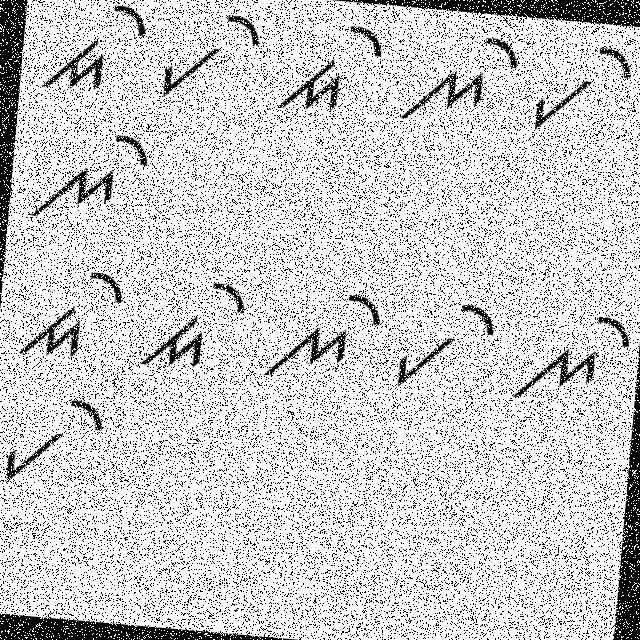day: (270, 9, 390, 123), (134, 266, 250, 380), (13, 259, 128, 372), (39, 0, 157, 105)
nay: (17, 124, 160, 234), (507, 302, 632, 420), (392, 25, 522, 136), (260, 275, 385, 390)
pay: (0, 392, 117, 508), (390, 286, 500, 406), (528, 33, 638, 138), (160, 2, 266, 108)
